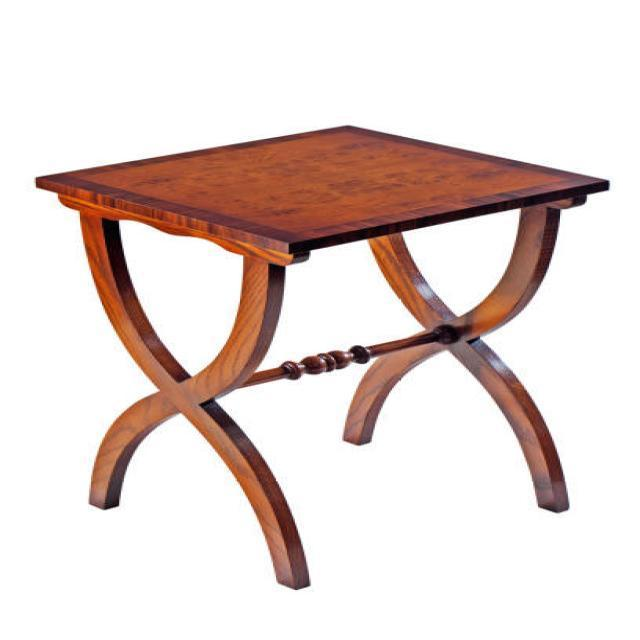table: (32, 123, 610, 589)
